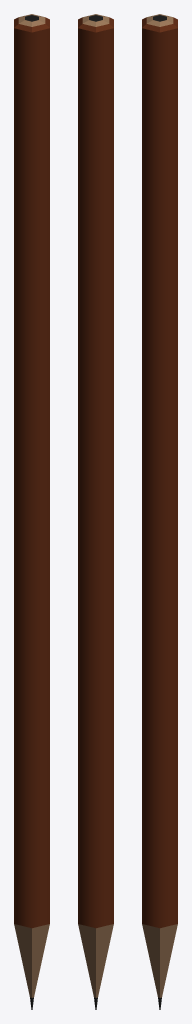
The model's file is Pencil.FBX.
The picture shows the model from 3 angles, left to right: view 1: azimuth 90°, elevation 25°; view 2: azimuth 210°, elevation 25°; view 3: azimuth 270°, elevation 25°; orthographic projection.
Parts seen in each view (by area): view 1: Lapis; view 2: Lapis; view 3: Lapis.
Part boxes in pixels (x1,y1,x2,y2): Lapis: (14, 14, 49, 1009); Lapis: (78, 14, 113, 1009); Lapis: (142, 14, 177, 1009).
Size of the model in its own units: 0.6611 by 17.41 by 0.5725.
